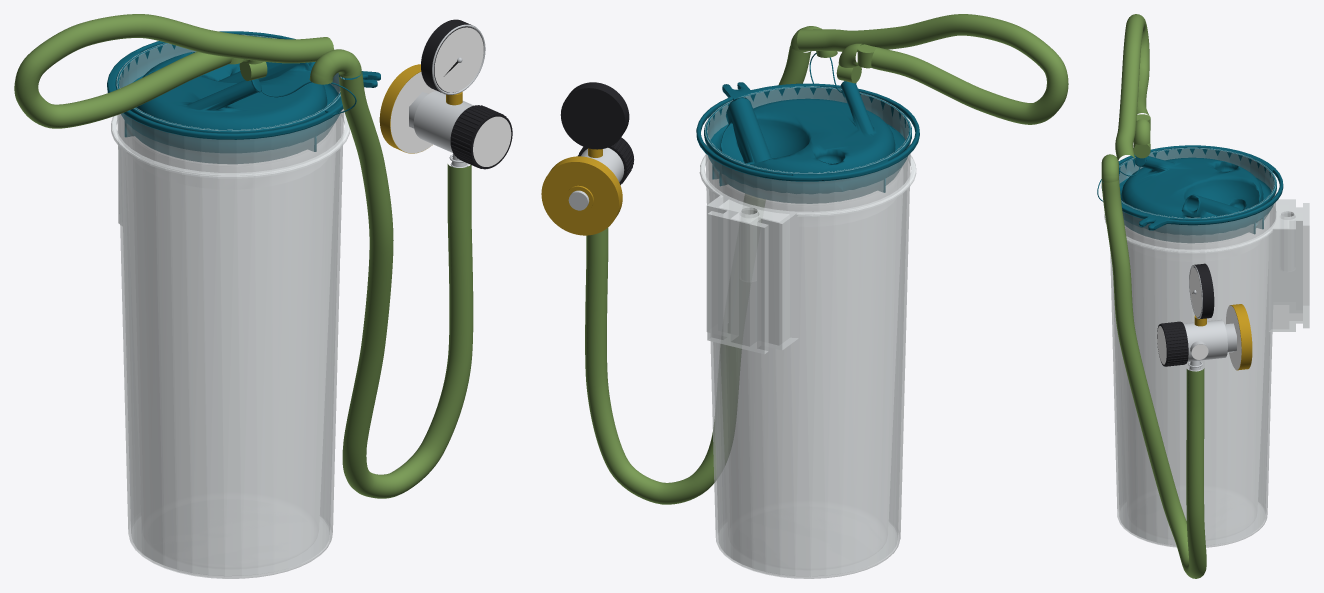
File: p17-wall-suction.glb
3 views of the same model, side by side, from view 1: azimuth 30°, elevation 25°; view 2: azimuth 150°, elevation 25°; view 3: azimuth 270°, elevation 25° (orthographic). The views are drawn at different scales.
Visible parts, largest first — view 1: vessel, vacuum-hose, lid, patient-hose, gauge-face, collar-mount, reg-body, vac-nut-face, knob-face, vacuum-elbow-bend, knob-body, gauge-housing (+1 smaller); view 2: vessel, lid, collar-mount, patient-hose, vacuum-hose, vac-nut-back, gauge-housing, vac-nut-body; view 3: vessel, lid, vacuum-hose, collar-mount, patient-hose, reg-body, knob-body, vac-nut-body, gauge-housing, vac-nut-face, vacuum-elbow-bend, gauge-face (+2 smaller).
Part boxes in pixels (x1,y1,x2,y2): vessel: (116, 34, 344, 578); vacuum-hose: (338, 71, 473, 498); lid: (107, 31, 380, 163); patient-hose: (14, 14, 333, 128); gauge-face: (434, 27, 483, 92); collar-mount: (111, 109, 349, 225); reg-body: (413, 91, 473, 152); vac-nut-face: (390, 72, 436, 153); knob-face: (473, 116, 511, 166); vacuum-elbow-bend: (309, 49, 361, 84); knob-body: (450, 105, 512, 169); gauge-housing: (421, 19, 480, 94); vessel: (705, 86, 911, 578); lid: (696, 52, 919, 203); collar-mount: (699, 154, 916, 354); patient-hose: (797, 14, 1068, 124); vacuum-hose: (585, 45, 811, 504); vac-nut-back: (542, 162, 618, 234); gauge-housing: (560, 82, 629, 149); vac-nut-body: (541, 156, 622, 235); vessel: (1110, 147, 1276, 547); lid: (1097, 145, 1283, 242); vacuum-hose: (1101, 180, 1206, 578); collar-mount: (1104, 199, 1309, 331); patient-hose: (1115, 14, 1149, 161); reg-body: (1183, 319, 1227, 361); knob-body: (1157, 322, 1188, 366); vac-nut-body: (1229, 304, 1252, 370); gauge-housing: (1193, 263, 1214, 319); vac-nut-face: (1226, 305, 1241, 369); vacuum-elbow-bend: (1101, 154, 1118, 182); gauge-face: (1189, 267, 1201, 316).
Size of the model in its own units: 320 by 349 by 155.
